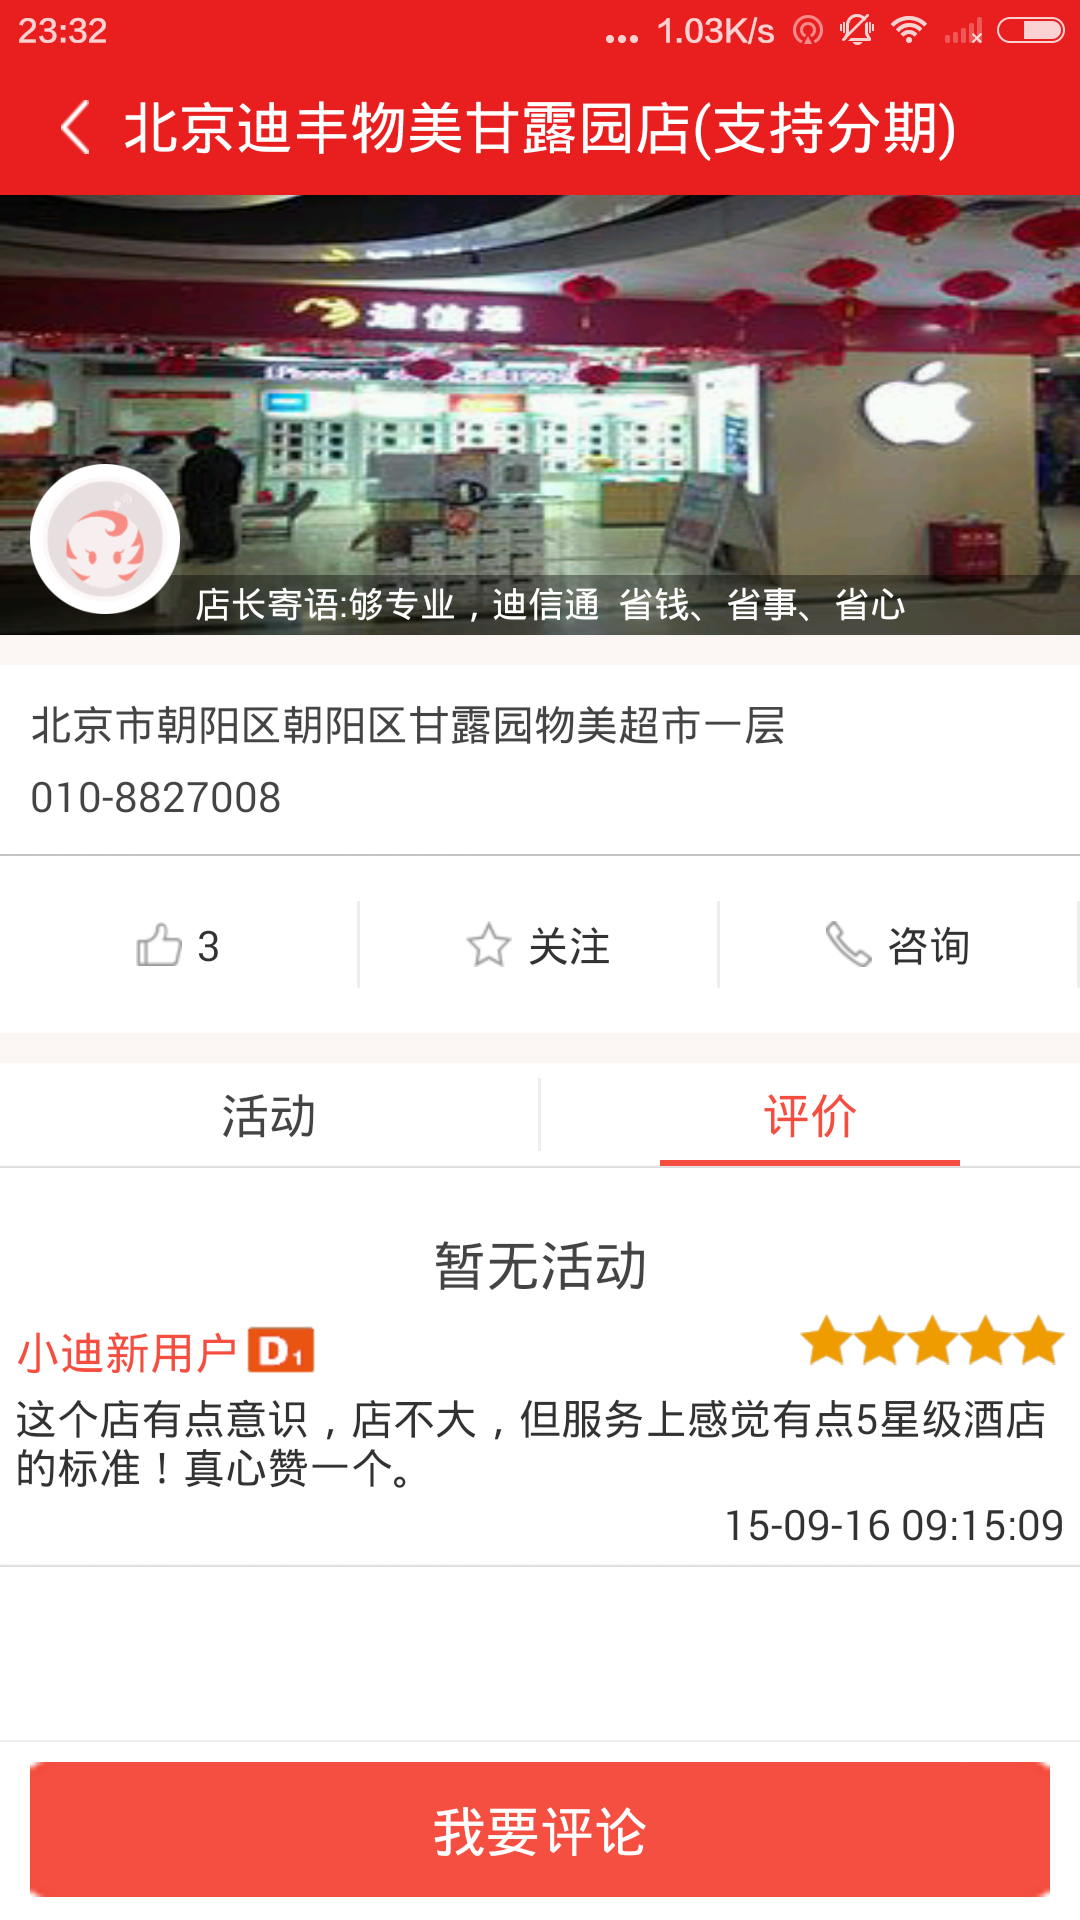button: (8, 1741, 1080, 1916)
nav: (15, 860, 1033, 1015)
textview: (3, 1324, 1080, 1586)
